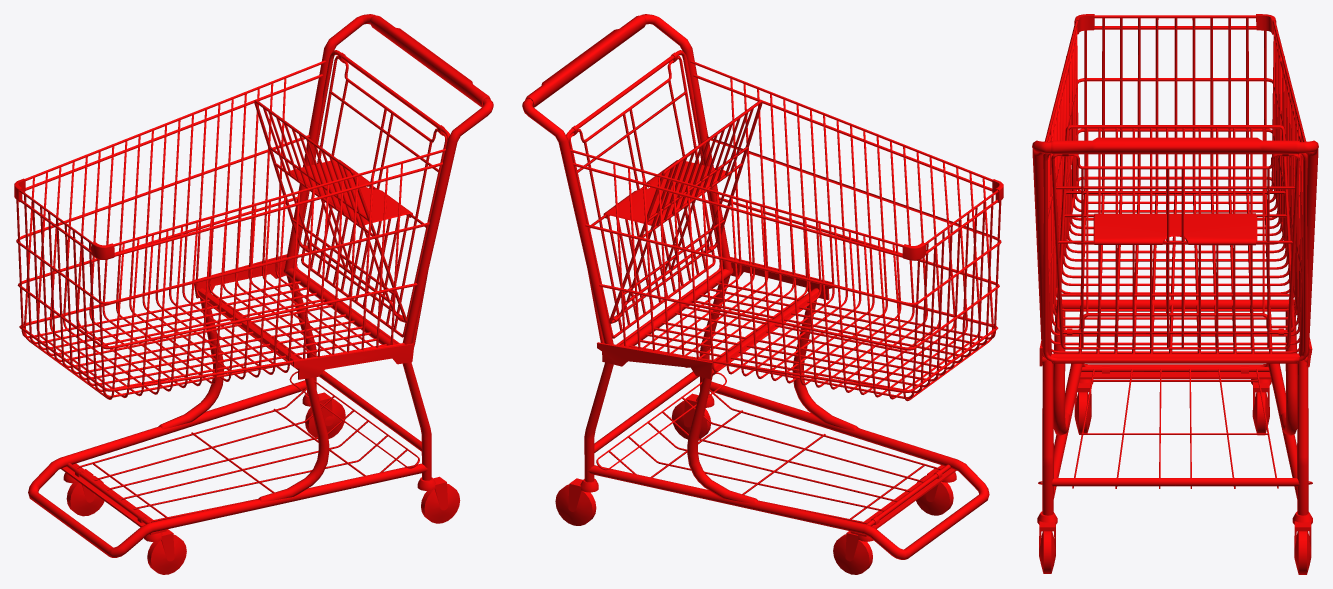
Rendered from SM_shoppingcart_01a.FBX.
3 renders of one model, left to right at view 1: azimuth 30°, elevation 25°; view 2: azimuth 150°, elevation 25°; view 3: azimuth 270°, elevation 25°, orthographic. The views are drawn at different scales.
Parts seen in each view (by area): view 1: SM_shoppingcart_01a_LOD0; view 2: SM_shoppingcart_01a_LOD0; view 3: SM_shoppingcart_01a_LOD0.
Part boxes in pixels (x1=…): SM_shoppingcart_01a_LOD0: x1=14, y1=14, x2=493, y2=574; SM_shoppingcart_01a_LOD0: x1=522, y1=14, x2=1003, y2=574; SM_shoppingcart_01a_LOD0: x1=1032, y1=14, x2=1318, y2=574.
Size of what is drawn, in the model's own units: 89.12 by 92.36 by 52.28.
